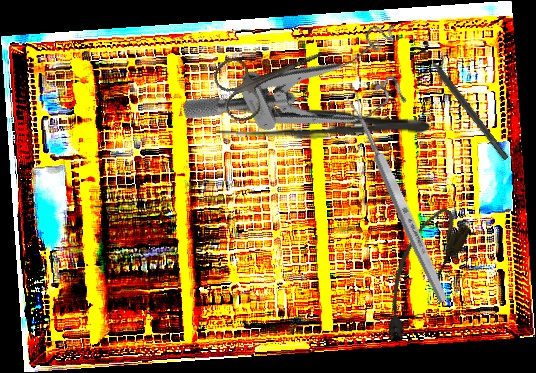Cannula: (362, 200, 476, 350)
Dressing Forceps: (213, 105, 432, 143)
Fixation Ring: (409, 39, 516, 166)
Iris Scissors: (208, 22, 342, 127)
Speculum: (179, 3, 428, 193)
Surgical Spoon: (344, 90, 451, 305)
